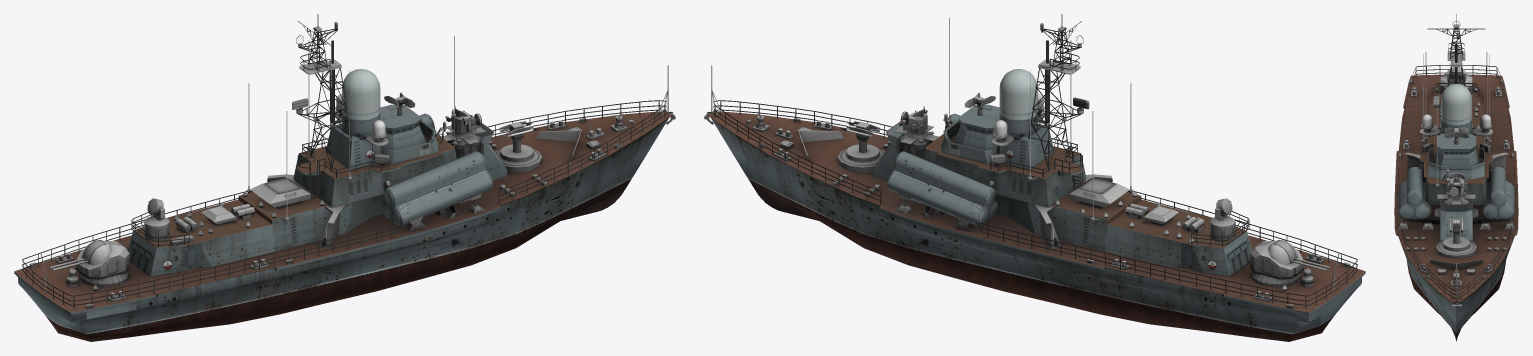
Rendered from nanuchka-class_corvette.glb.
3 renders of one model, left to right at view 1: azimuth 30°, elevation 25°; view 2: azimuth 150°, elevation 25°; view 3: azimuth 270°, elevation 25°, orthographic. The views are drawn at different scales.
Visible parts, largest first — view 1: Object_2, Object_6, Object_3, Object_5, Object_4; view 2: Object_2, Object_6, Object_3, Object_5, Object_4; view 3: Object_2, Object_6, Object_3, Object_5, Object_4.
Boxes of the visible parts, <box> form: Object_2: <box>14,111,671,341</box>; Object_6: <box>127,69,507,276</box>; Object_3: <box>29,21,675,308</box>; Object_5: <box>22,14,666,308</box>; Object_4: <box>79,26,542,286</box>; Object_2: <box>708,111,1365,341</box>; Object_6: <box>872,69,1252,276</box>; Object_3: <box>704,18,1350,308</box>; Object_5: <box>713,14,1357,308</box>; Object_4: <box>837,26,1300,286</box>; Object_2: <box>1394,74,1518,341</box>; Object_6: <box>1398,84,1514,241</box>; Object_3: <box>1398,32,1514,306</box>; Object_5: <box>1397,14,1515,298</box>; Object_4: <box>1404,24,1508,258</box>.
Size of the model in its own units: 6161 by 2507 by 1294.
5 materials, 5 textured.
